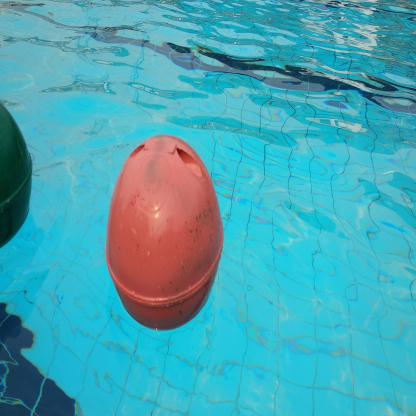green_buoy: (0, 89, 36, 263)
red_buoy: (102, 121, 230, 341)
